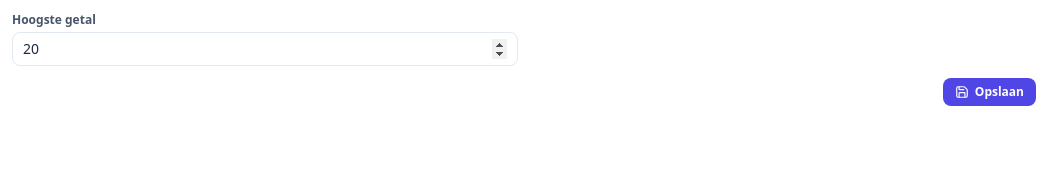
ExerciseConfigForm › shows the problem and does not save an invalid config
Replace the text in the number field labelled "Hoogste getal" with "150" at (265, 49), box [12,32,518,66]
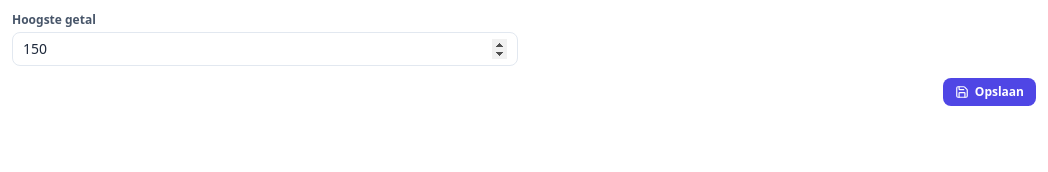
Click the button "Opslaan".
click(989, 92)  # box [943,78,1036,106]
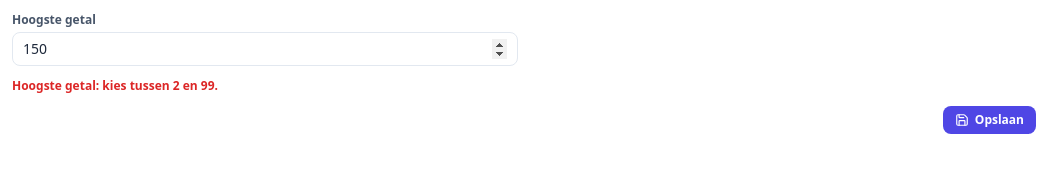
Now the message shows "tussen 2 en 99", box [12,77,218,94]
